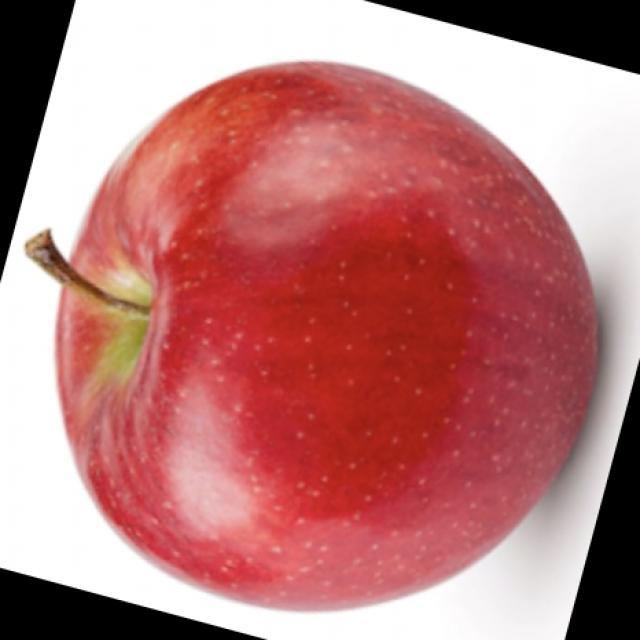Fresh Apple: (65, 65, 582, 618)
